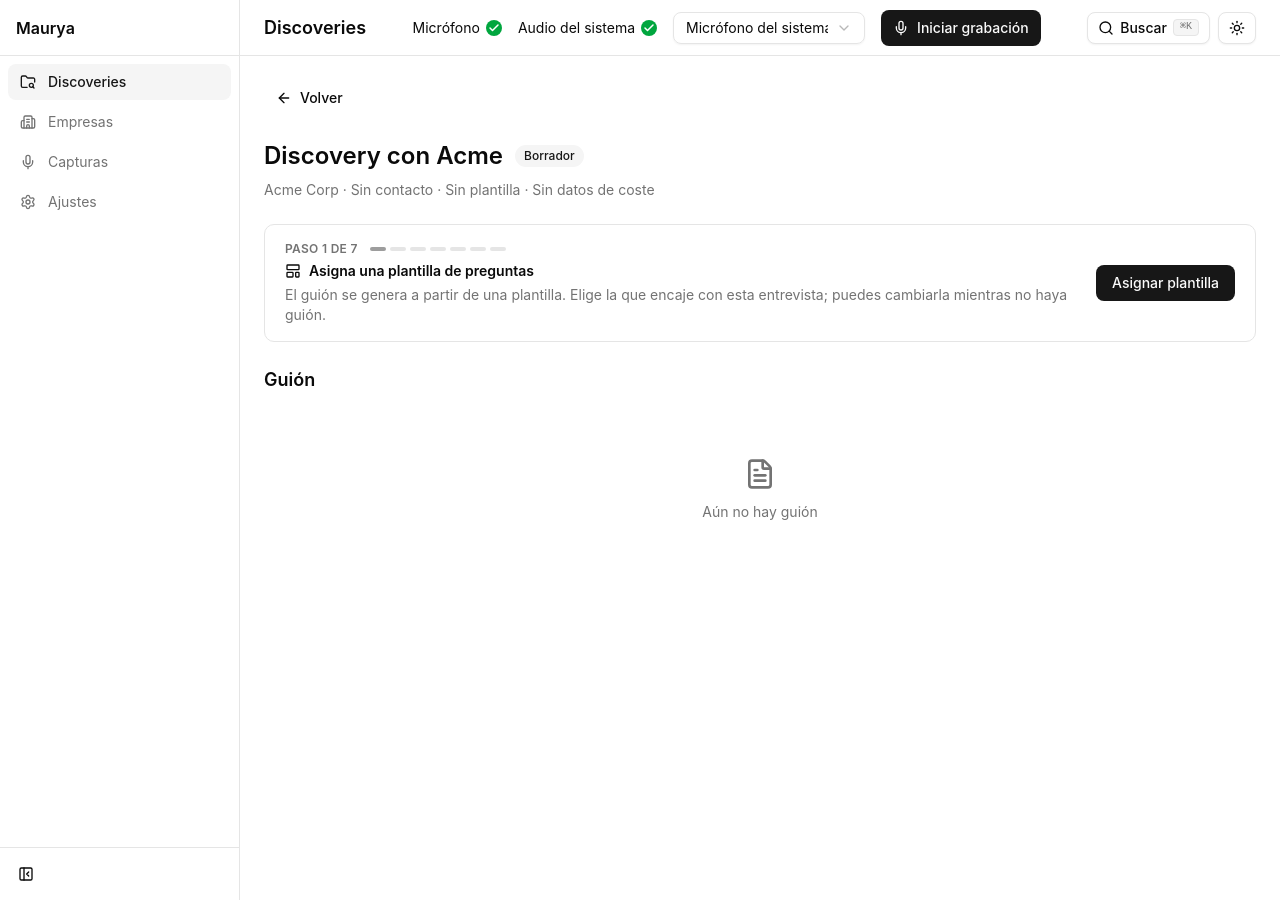
ConsentDialog (aviso de grabación) › before recording › closes without starting and without persisting any preference on "Cancelar" or Escape
Click the button "Iniciar grabación" at (961, 28), box 881,10 -> 1041,46
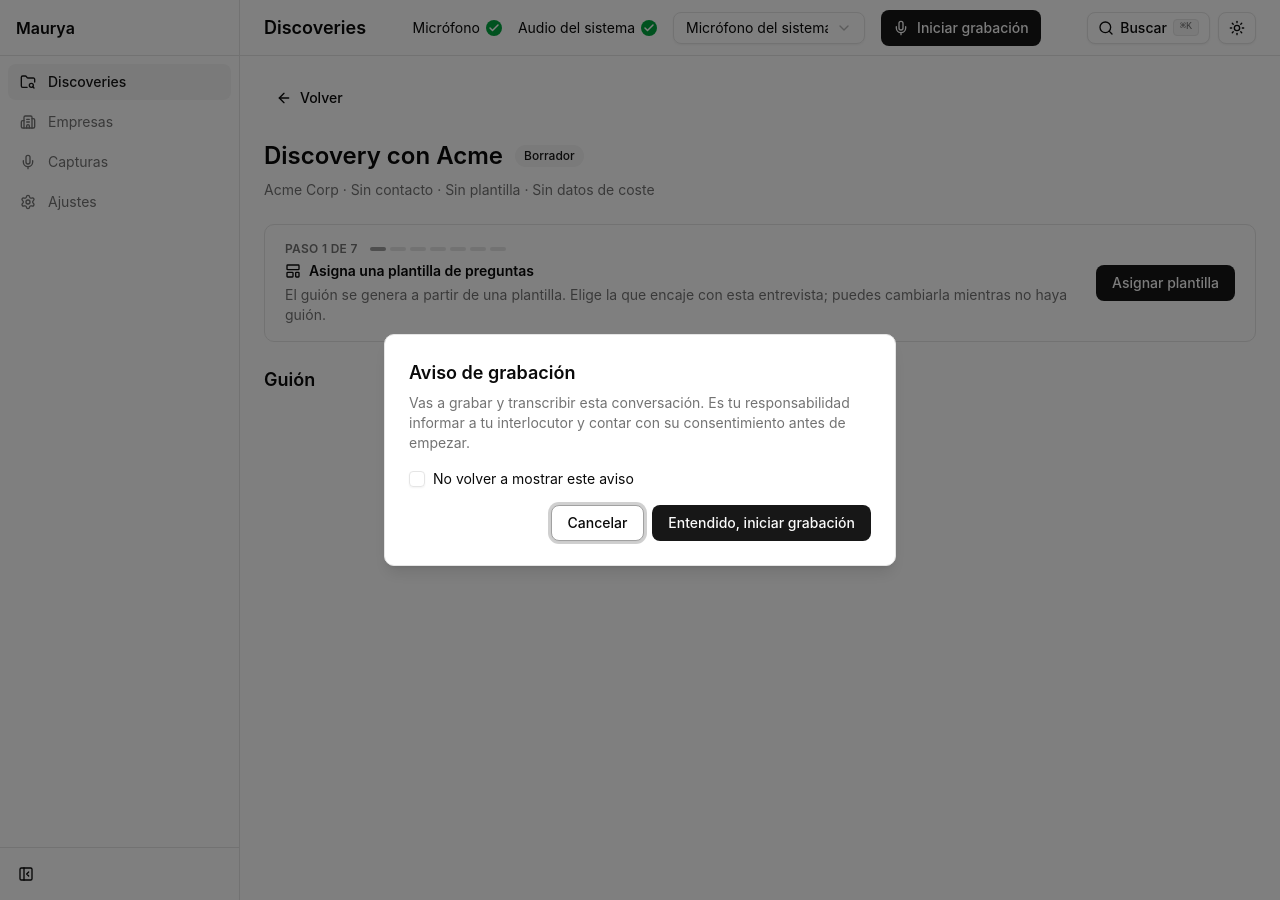
Click the button "Cancelar" at (597, 523), box 550,505 -> 644,541
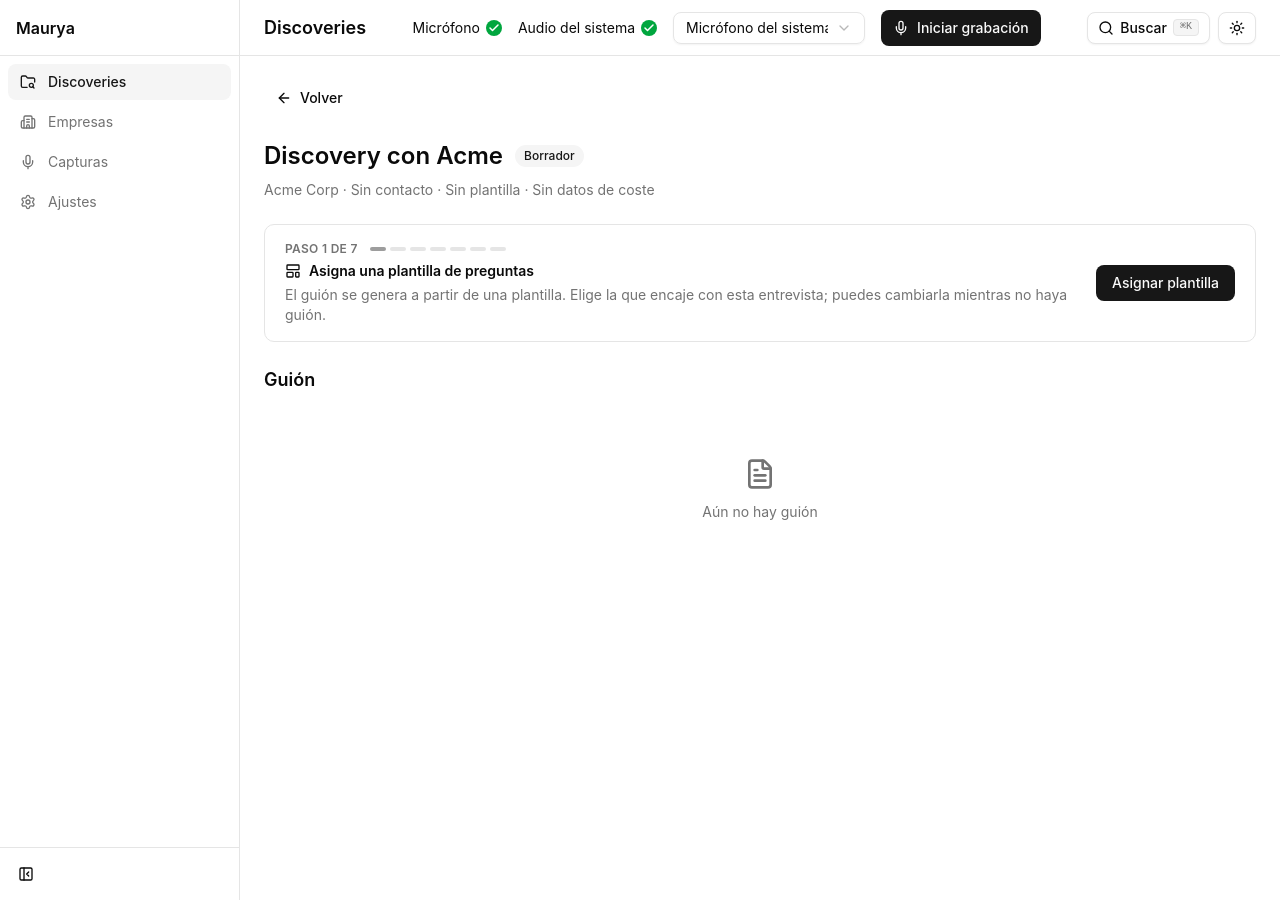
Result: the dialog is gone
Click the button "Iniciar grabación" at (961, 28), box 881,10 -> 1041,46
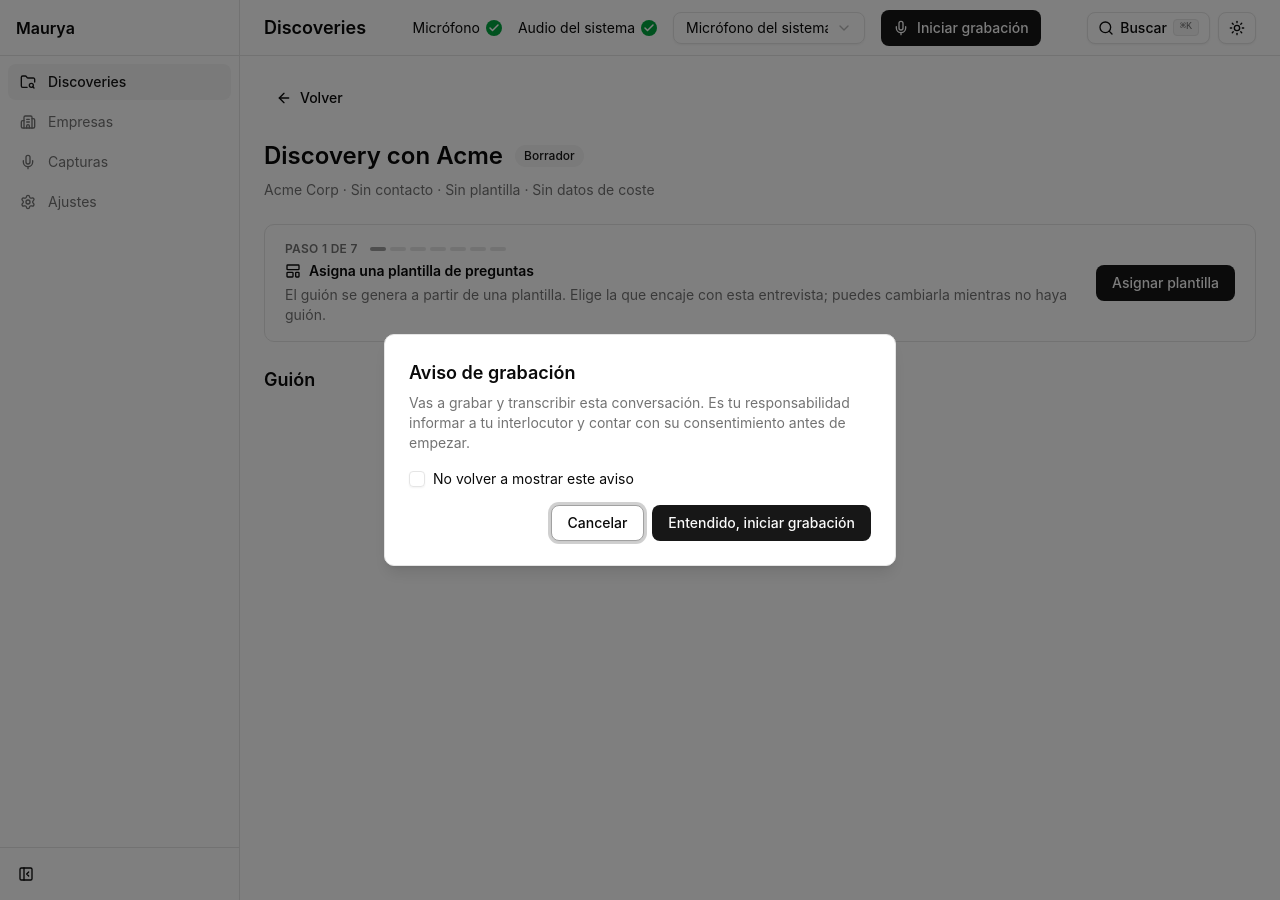
Press Escape
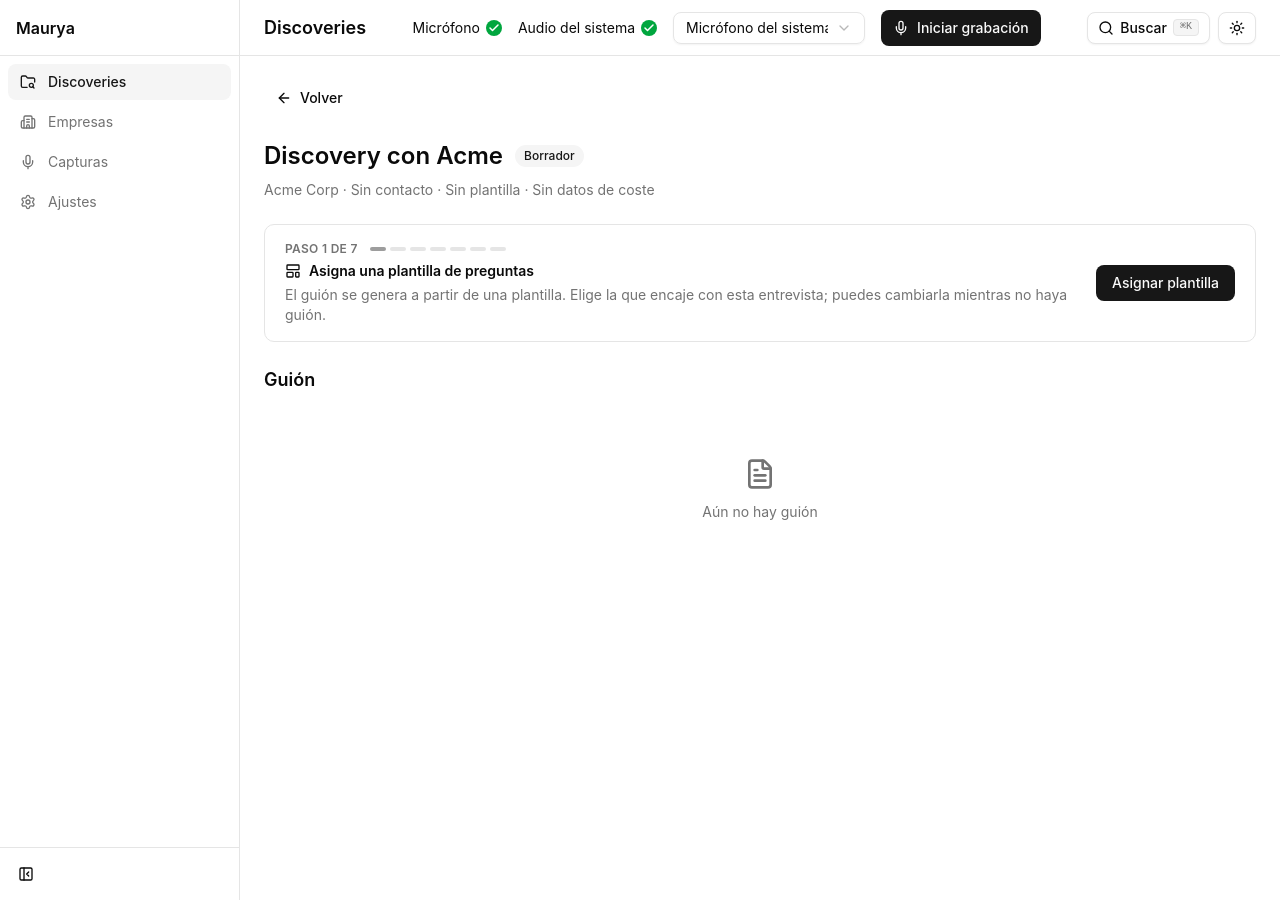
Result: the dialog is gone
